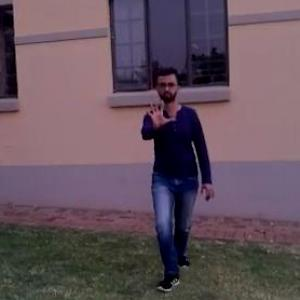follow_hand: (140, 92, 176, 132)
